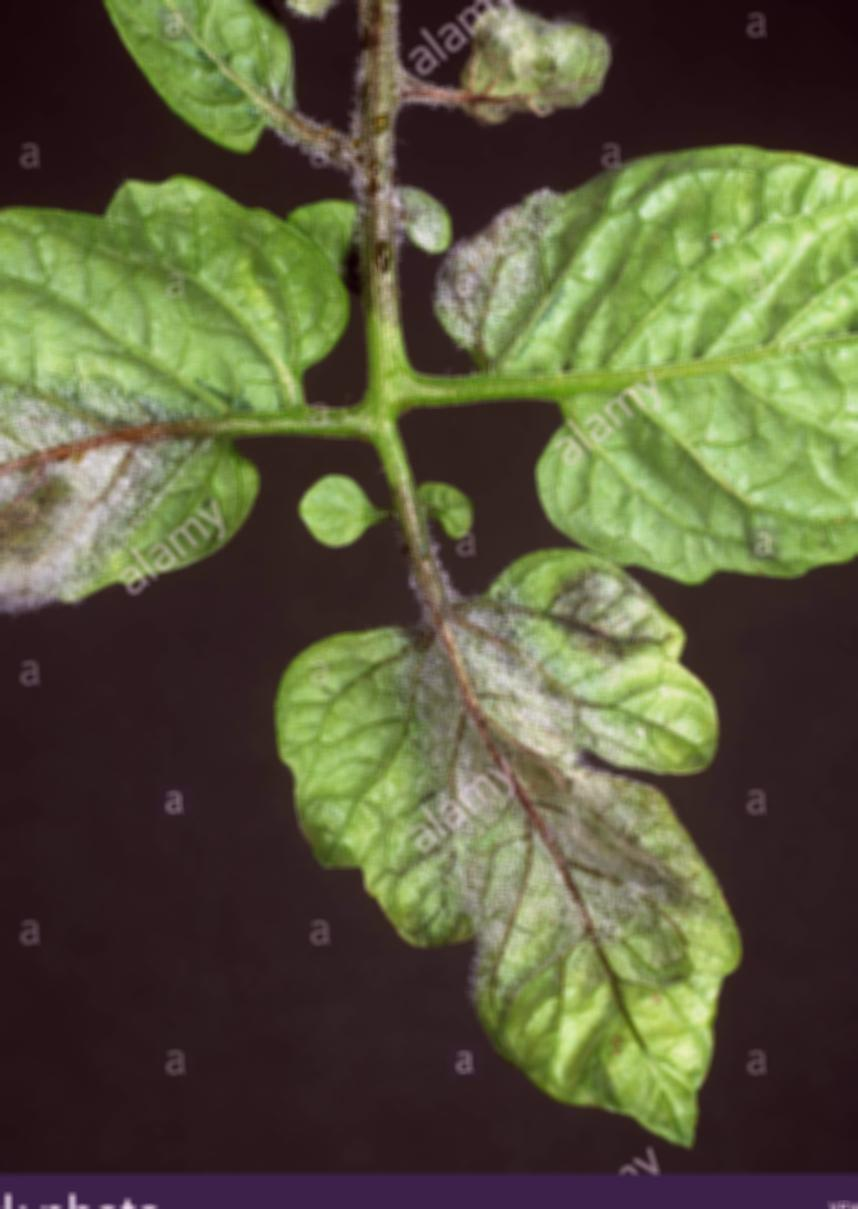Tomato leaf late blight: (275, 555, 754, 1157), (420, 127, 858, 605), (0, 155, 387, 635)
